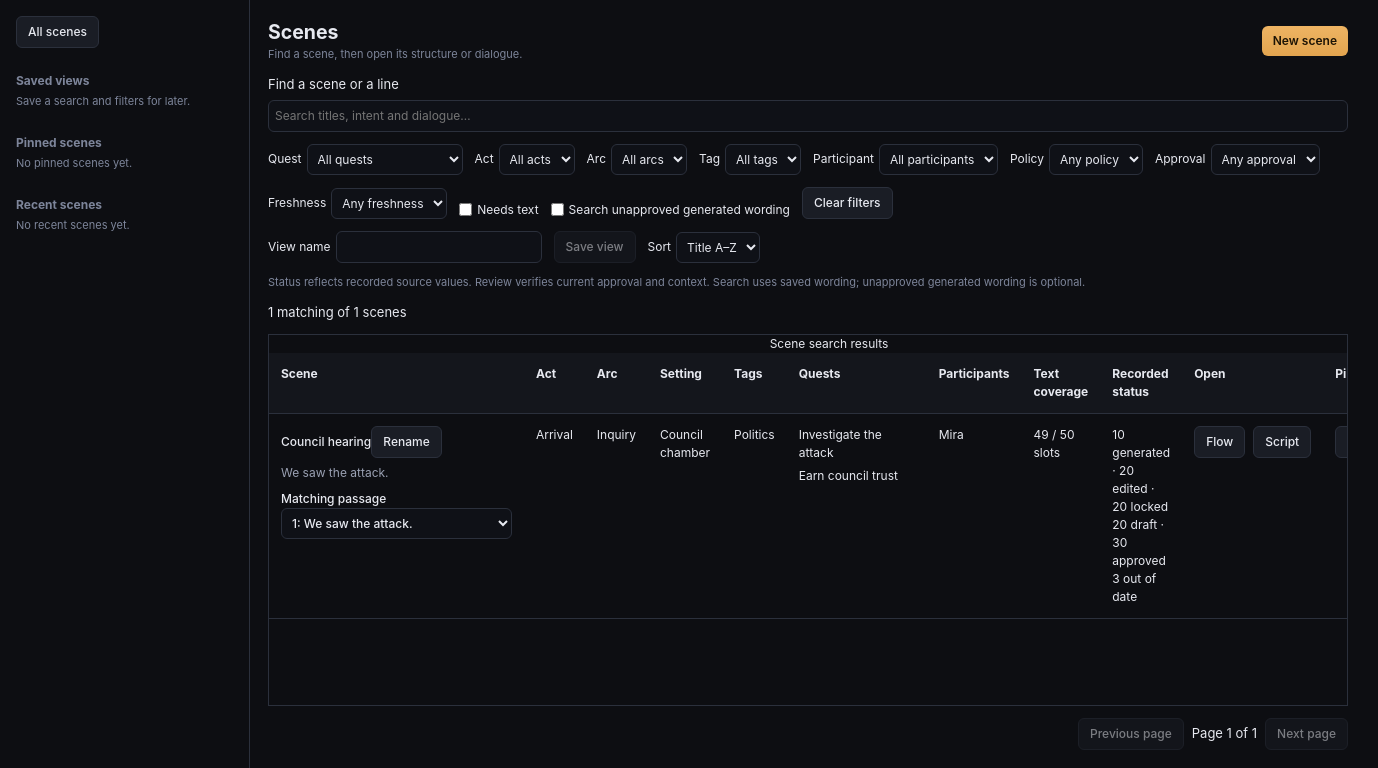
Test case: Bounded scene discovery › renames a scene from its row without opening it
Click the button with aria-label "Rename Council hearing".
click(406, 442)  # box [371,426,442,458]
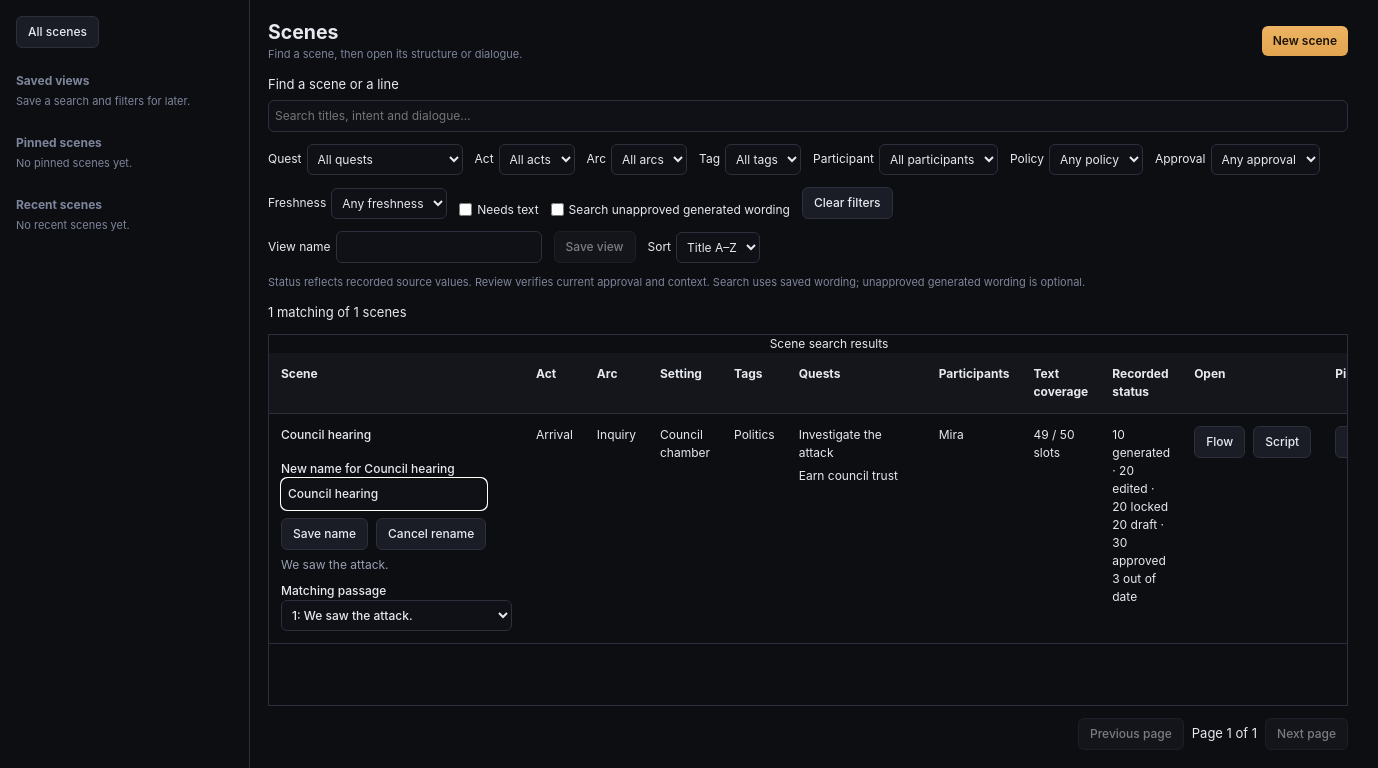
Replace the text in the field labelled "New name for Council hearing" with "  The hearing  " at (384, 494), box [281,478,487,510]
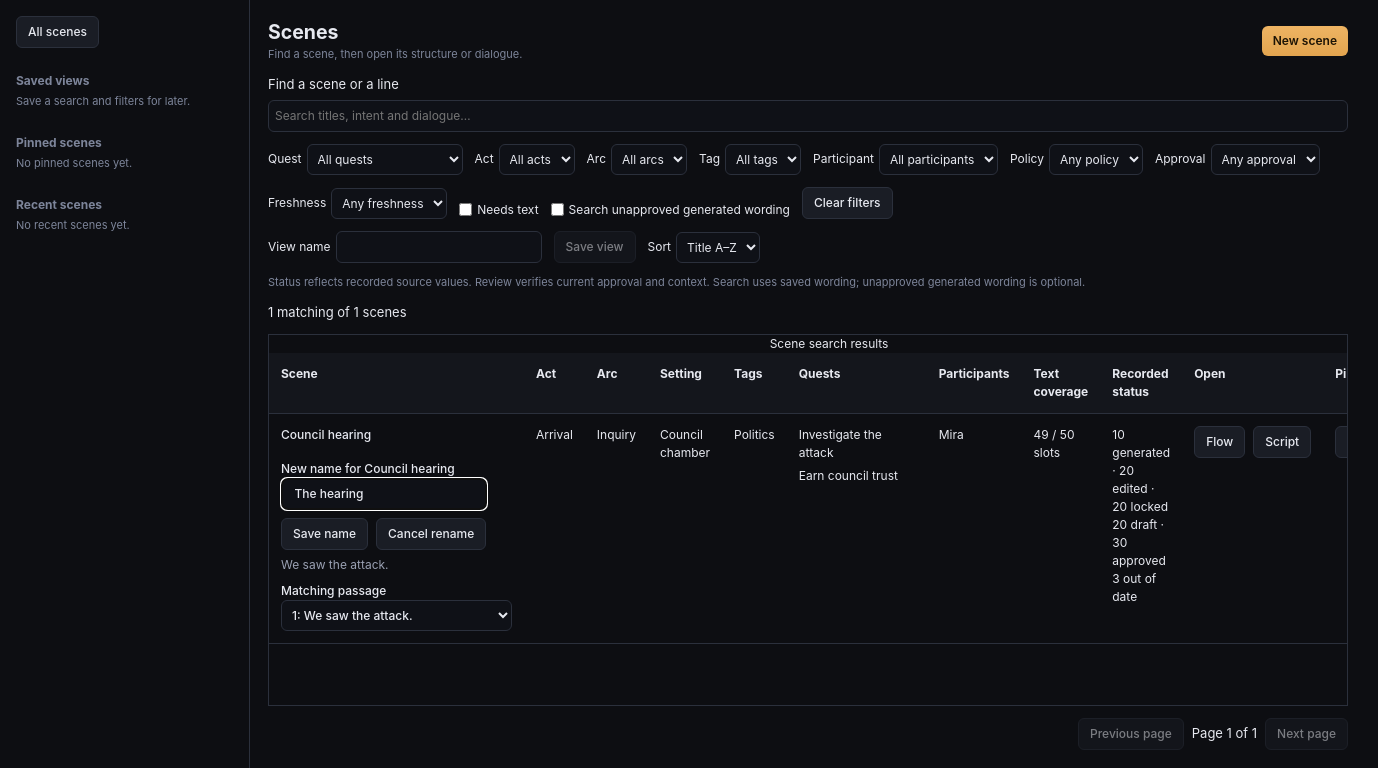
Click the button "Save name".
click(324, 534)  # box [281,518,368,550]
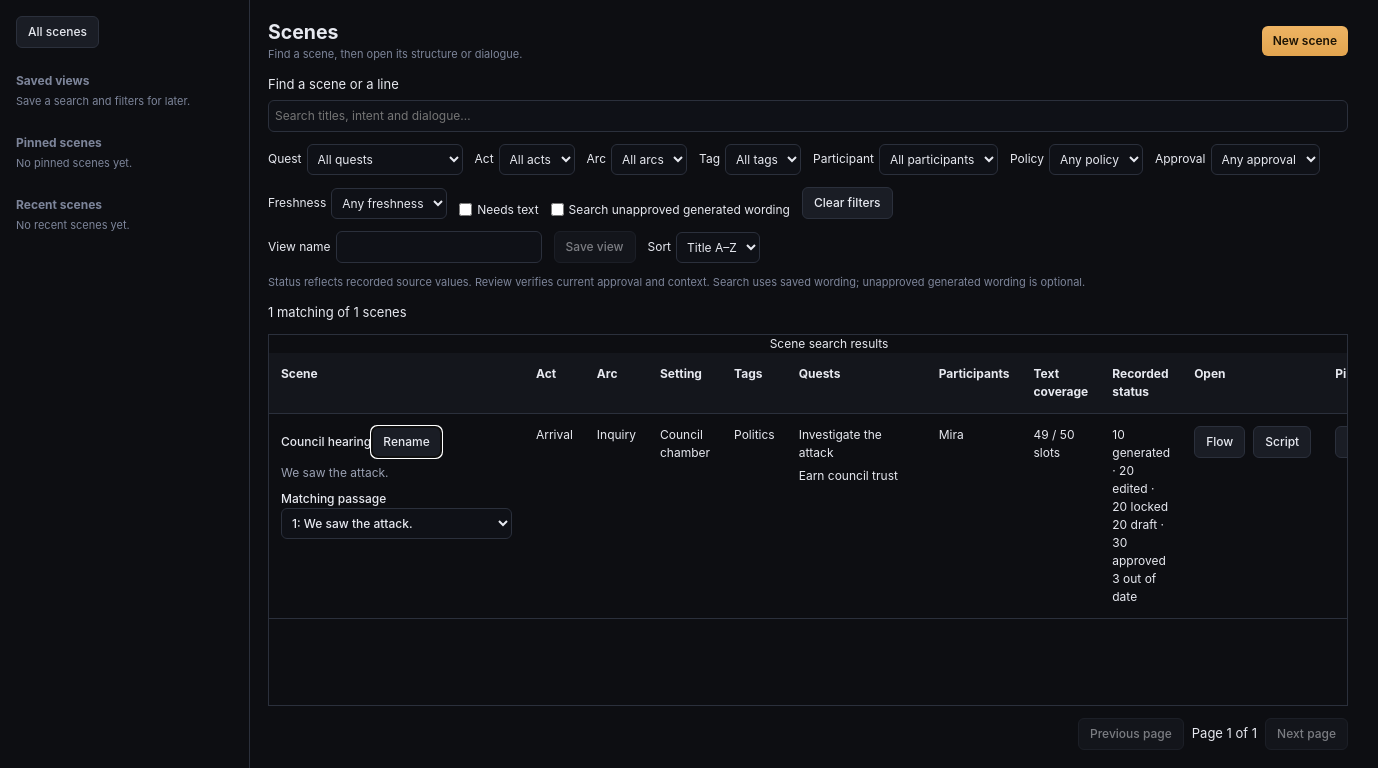
Check: the label labelled "New name for Council hearing" is gone
